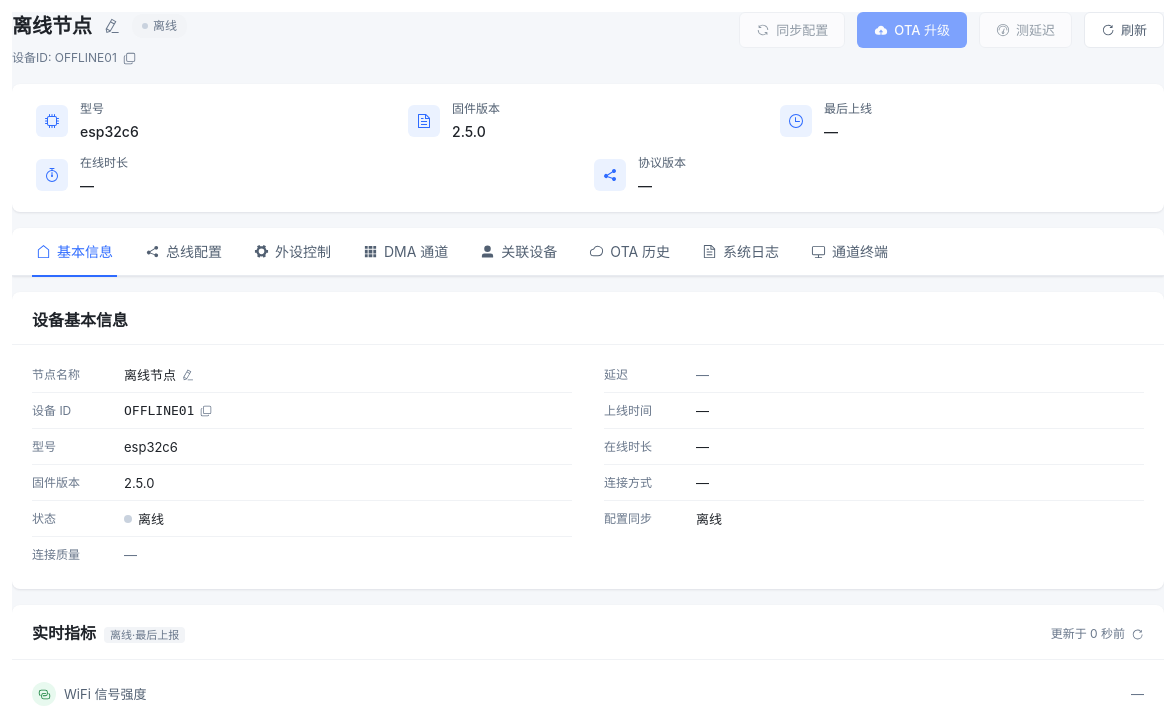
NodeOverview (生产页) › 离线时总线写操作均被门控
Click the tab with class "tab-item" showing "总线配置" at (184, 251), box [145,242,222,260]
(page scrolled)
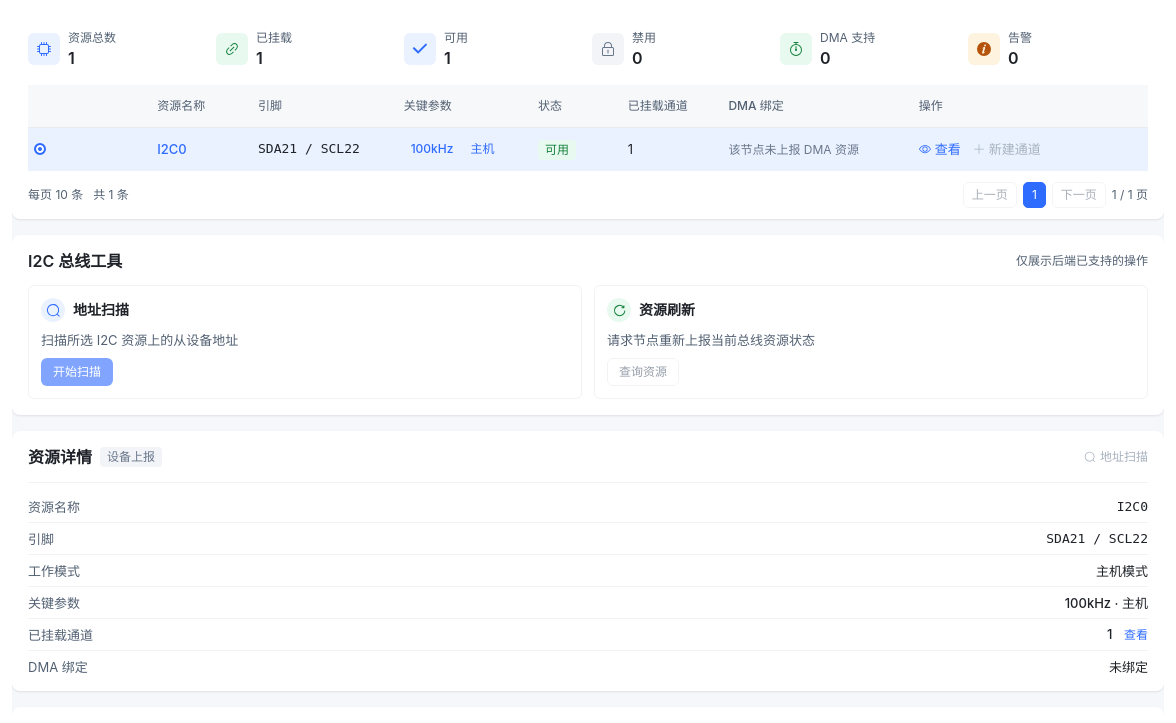
Check: the button "开始扫描" is disabled, box [41,358,113,386]
